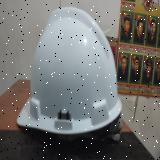Helmet: (16, 6, 122, 134)
